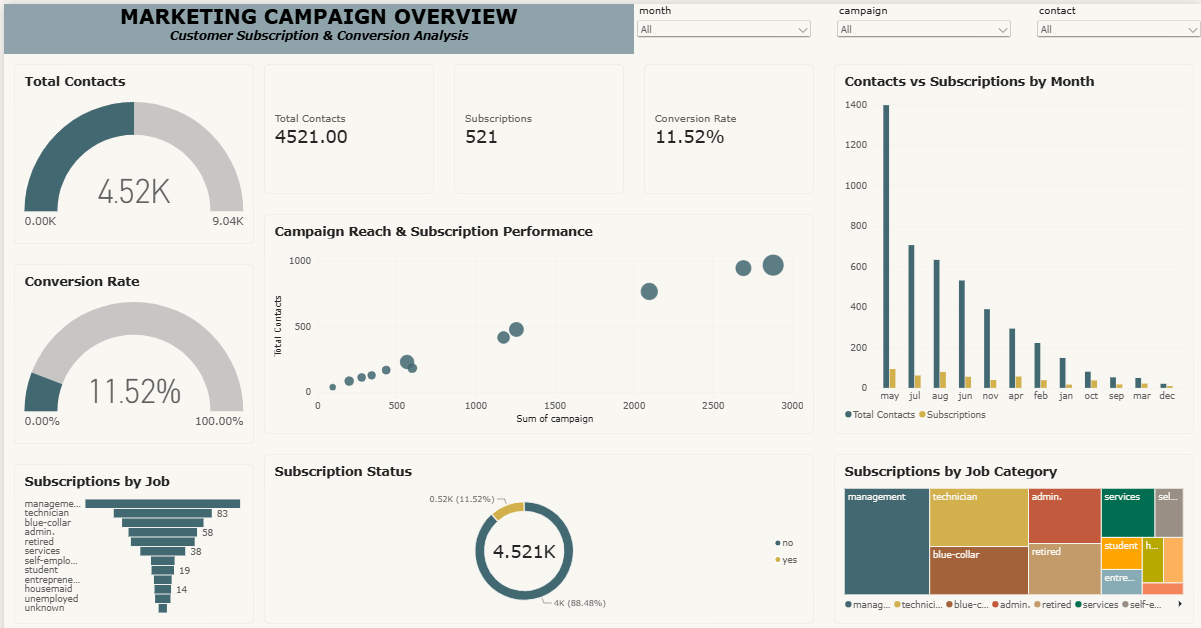

This screenshot's page, from the dashboard's own definition file:
{"tool":"powerbi","page":{"name":"Page 1","canvas":[1920,1080],"ordinal":0},"visuals":[{"type":"cardVisual","fields":{"Data":["bank_cleaned.Total Contacts"]},"box":[416,96,272,208],"z":0},{"type":"cardVisual","fields":{"Data":["bank_cleaned.Subscriptions"]},"box":[720,96,272,208],"z":1000},{"type":"cardVisual","fields":{"Data":["bank_cleaned.Conversion Rate"]},"box":[1024,96,272,208],"z":2000},{"type":"textbox","box":[0,0,1008,80],"z":4000},{"type":"slicer","fields":{"Values":["bank_cleaned.month"]},"box":[1008,0,288,80],"z":4001},{"type":"slicer","fields":{"Values":["bank_cleaned.campaign"]},"box":[1328,0,288,80],"z":4002},{"type":"slicer","fields":{"Values":["bank_cleaned.contact"]},"box":[1648,0,272,96],"z":4003},{"type":"donutChart","title":"Subscription Status","fields":{"Category":["bank_cleaned.y"],"Y":["CountNonNull(bank_cleaned.y)"]},"box":[416,720,880,272],"z":4005},{"type":"funnel","title":"Subscriptions by Job","fields":{"Category":["bank_cleaned.job"],"Y":["bank_cleaned.Subscriptions"]},"box":[16,736,384,256],"z":4006},{"type":"gauge","fields":{"Y":["bank_cleaned.Total Contacts"]},"box":[16,96,384,288],"z":4008},{"type":"gauge","fields":{"Y":["bank_cleaned.Conversion Rate"]},"box":[16,416,384,288],"z":4009},{"type":"treemap","title":"Subscriptions by Job Category","fields":{"Group":["bank_cleaned.job"],"Values":["bank_cleaned.Subscriptions"]},"box":[1328,720,576,272],"z":4011},{"type":"scatterChart","title":"Campaign Reach & Subscription Performance","fields":{"Category":["bank_cleaned.job"],"Size":["bank_cleaned.Subscriptions"],"X":["Sum(bank_cleaned.campaign)"],"Y":["bank_cleaned.Total Contacts"]},"box":[416,336,880,352],"z":4012},{"type":"lineClusteredColumnComboChart","title":"Contacts vs Subscriptions by Month","fields":{"Category":["bank_cleaned.month"],"Y":["bank_cleaned.Total Contacts","bank_cleaned.Subscriptions"]},"box":[1328,96,576,592],"z":4013}]}

Visuals, with their boxes on the page's 1920x1080 design canvas (x1, y1, x2, y2). These are canvas units, not pixel positions in the 1201x628 screenshot, which may show the page scaled, cropped or inside an application window:
cardVisual - bank_cleaned.Total Contacts: pyautogui.locateOnScreen(416, 96, 688, 304)
cardVisual - bank_cleaned.Subscriptions: pyautogui.locateOnScreen(720, 96, 992, 304)
cardVisual - bank_cleaned.Conversion Rate: pyautogui.locateOnScreen(1024, 96, 1296, 304)
textbox: pyautogui.locateOnScreen(0, 0, 1008, 80)
slicer - bank_cleaned.month: pyautogui.locateOnScreen(1008, 0, 1296, 80)
slicer - bank_cleaned.campaign: pyautogui.locateOnScreen(1328, 0, 1616, 80)
slicer - bank_cleaned.contact: pyautogui.locateOnScreen(1648, 0, 1920, 96)
"Subscription Status" donutChart: pyautogui.locateOnScreen(416, 720, 1296, 992)
"Subscriptions by Job" funnel: pyautogui.locateOnScreen(16, 736, 400, 992)
gauge - bank_cleaned.Total Contacts: pyautogui.locateOnScreen(16, 96, 400, 384)
gauge - bank_cleaned.Conversion Rate: pyautogui.locateOnScreen(16, 416, 400, 704)
"Subscriptions by Job Category" treemap: pyautogui.locateOnScreen(1328, 720, 1904, 992)
"Campaign Reach & Subscription Performance" scatterChart: pyautogui.locateOnScreen(416, 336, 1296, 688)
"Contacts vs Subscriptions by Month" lineClusteredColumnComboChart: pyautogui.locateOnScreen(1328, 96, 1904, 688)
